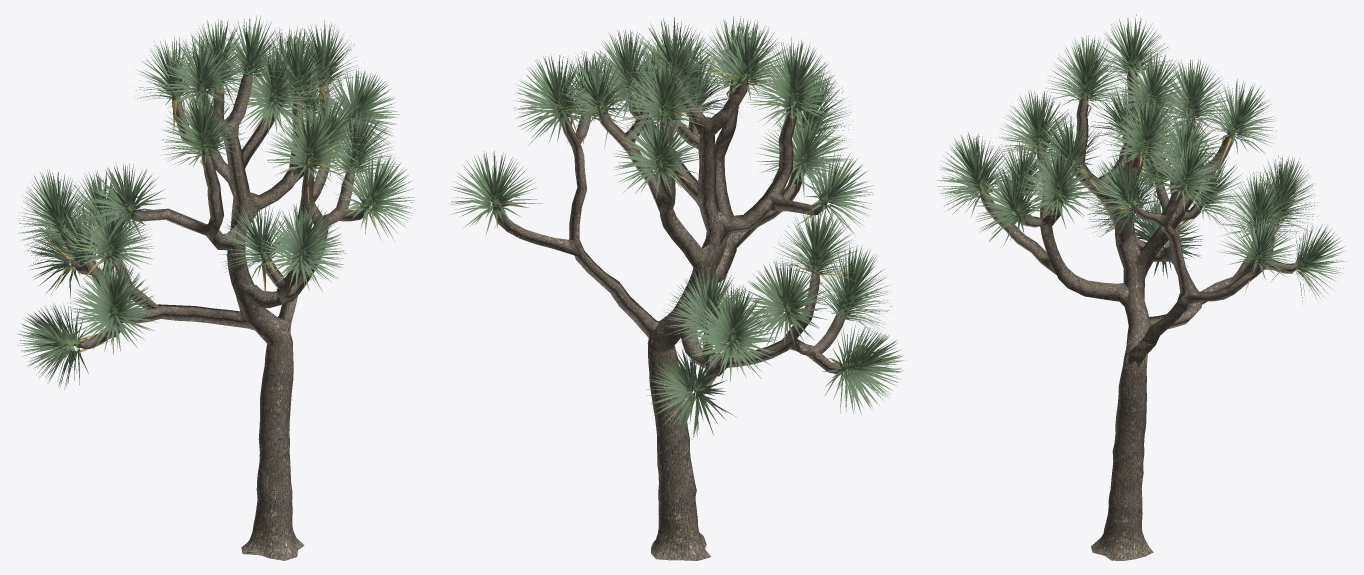
File: Yucca.fbx
3 renders of one model, left to right at view 1: azimuth 30°, elevation 25°; view 2: azimuth 150°, elevation 25°; view 3: azimuth 270°, elevation 25°, orthographic. The views are drawn at different scales.
Parts seen in each view (by area): view 1: Yucca_brevifolia_HD; view 2: Yucca_brevifolia_HD; view 3: Yucca_brevifolia_HD.
Boxes of the visible parts, x1,y1,x2,y2 form: Yucca_brevifolia_HD: (16, 15, 414, 560); Yucca_brevifolia_HD: (448, 16, 904, 560); Yucca_brevifolia_HD: (937, 14, 1346, 560).
Bounding box in the file's own units: 356 × 470 × 354.
5 materials, 5 textured.
